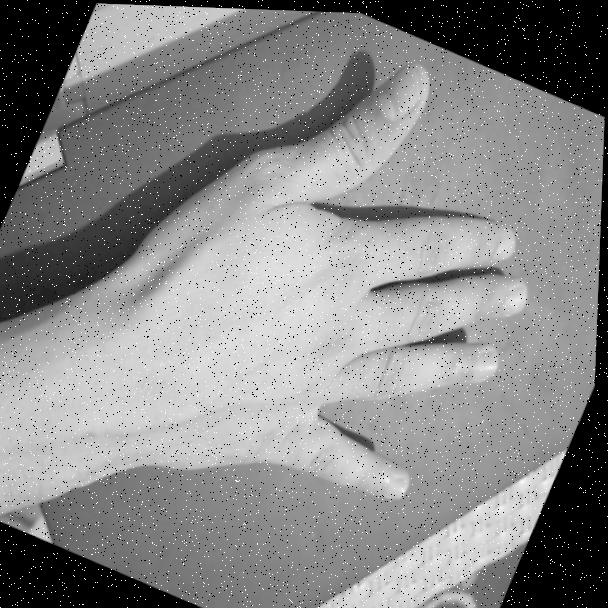five: (126, 4, 602, 535)
